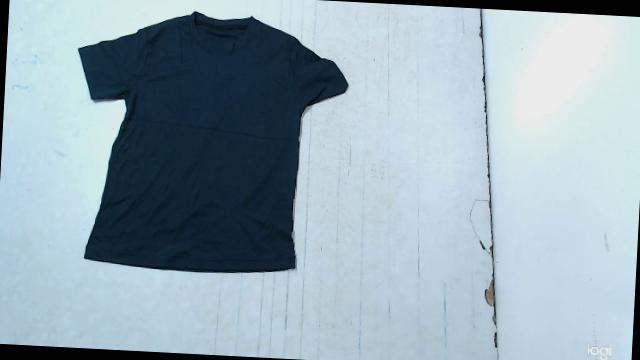new-garment: (79, 12, 347, 272)
